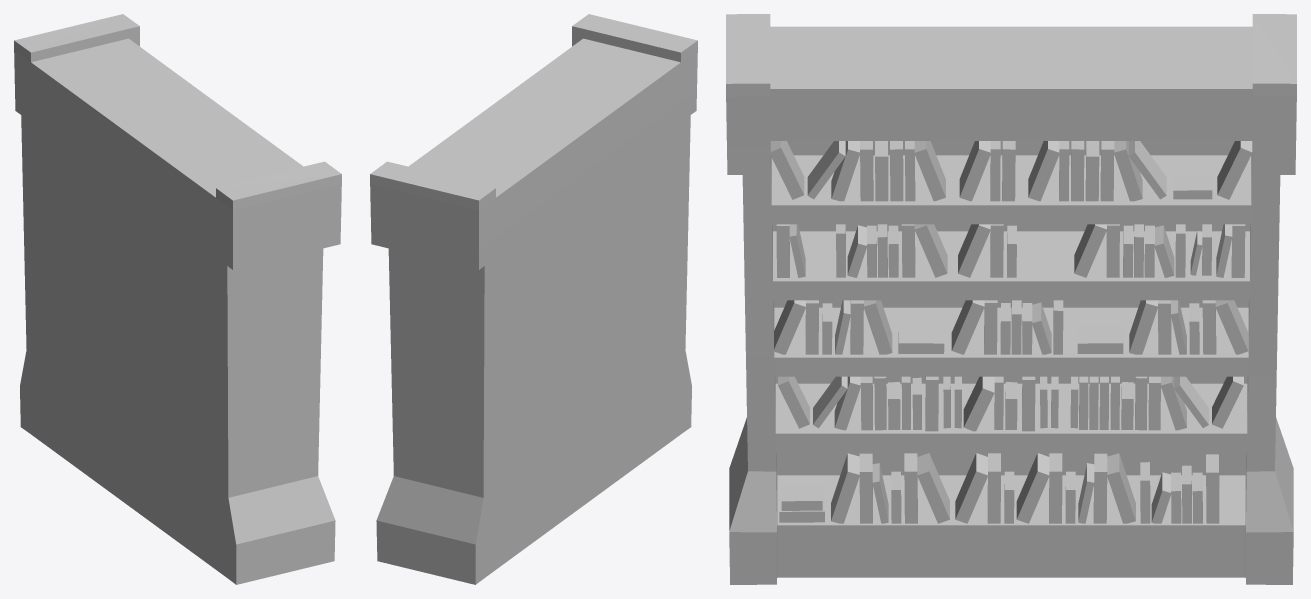
Rendered from BookCaseLargeBooks.glb.
3 renders of one model, left to right at view 1: azimuth 30°, elevation 25°; view 2: azimuth 150°, elevation 25°; view 3: azimuth 270°, elevation 25°, orthographic. The views are drawn at different scales.
Parts seen in each view (by area): view 1: BookCaseLargeBooks; view 2: BookCaseLargeBooks; view 3: BookCaseLargeBooks.
Part boxes in pixels (<box>): BookCaseLargeBooks: <box>14,14,341,584</box>; BookCaseLargeBooks: <box>370,14,697,584</box>; BookCaseLargeBooks: <box>726,14,1296,584</box>.
Size of the model in its own units: 0.4519 by 1.53 by 1.57.
7 materials, 7 textured.
